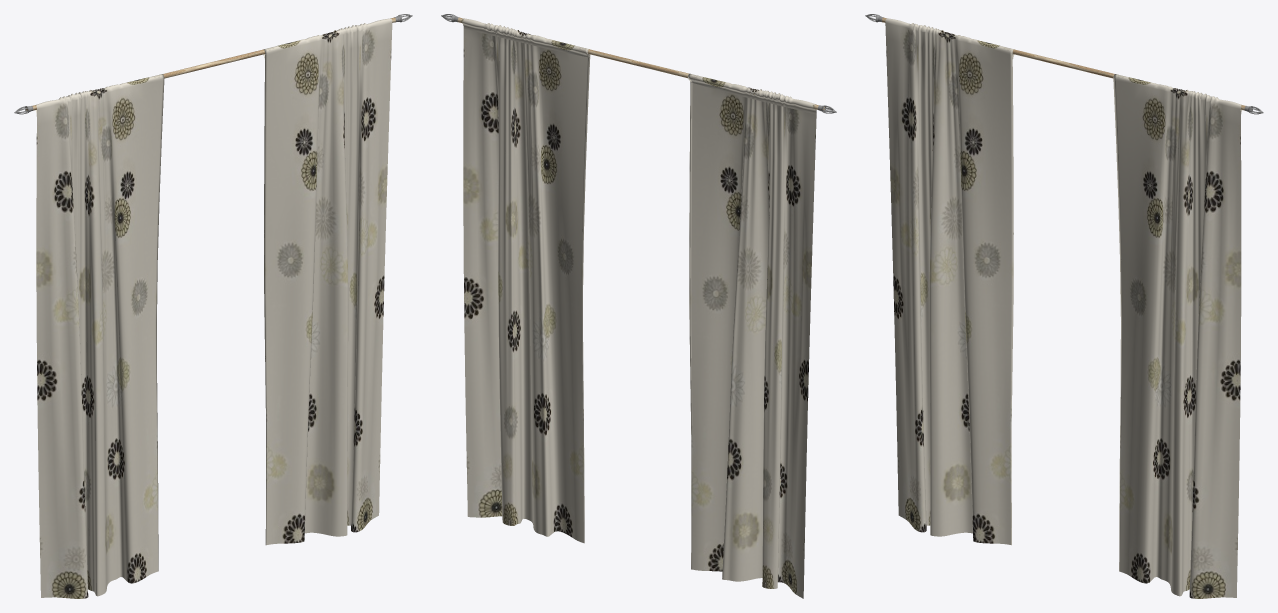
The picture shows the model from 3 angles, left to right: view 1: azimuth 30°, elevation 25°; view 2: azimuth 150°, elevation 25°; view 3: azimuth 330°, elevation 25°; orthographic projection.
Parts seen in each view (by area): view 1: Arch60_068_obj00, Arch60_068_obj04, Arch60_068_obj01; view 2: Arch60_068_obj04, Arch60_068_obj00, Arch60_068_obj01; view 3: Arch60_068_obj04, Arch60_068_obj00, Arch60_068_obj01.
Part boxes in pixels (box(x1,y1,x2,y2)): Arch60_068_obj00: box(35, 74, 164, 598); Arch60_068_obj04: box(263, 18, 392, 545); Arch60_068_obj01: box(26, 17, 395, 110); Arch60_068_obj04: box(461, 18, 590, 543); Arch60_068_obj00: box(688, 73, 816, 598); Arch60_068_obj01: box(457, 17, 825, 110); Arch60_068_obj04: box(1113, 74, 1241, 598); Arch60_068_obj00: box(885, 18, 1014, 545); Arch60_068_obj01: box(882, 17, 1245, 110).
Bounding box in the file's own units: 74.35 × 89.12 × 4.39.
